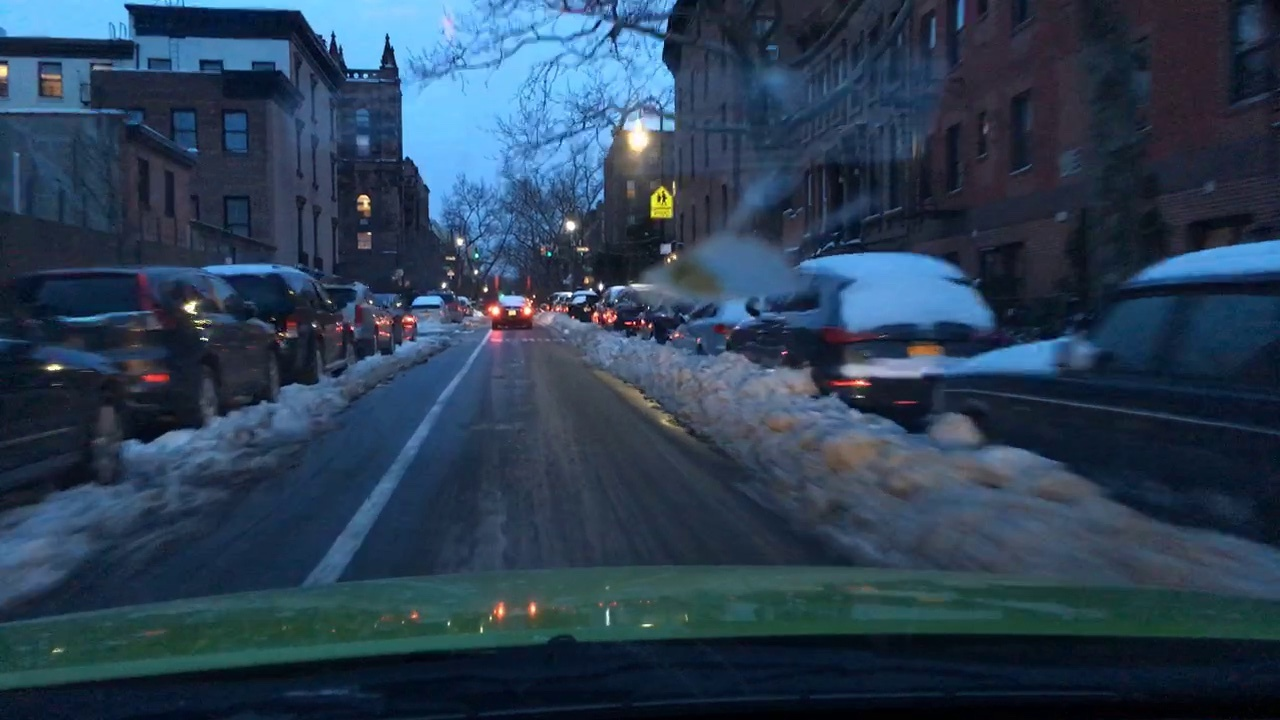car: (933, 255, 1278, 540), (733, 256, 993, 441), (23, 263, 282, 425), (207, 259, 356, 381), (317, 275, 396, 355), (489, 294, 532, 329), (407, 294, 450, 323)
